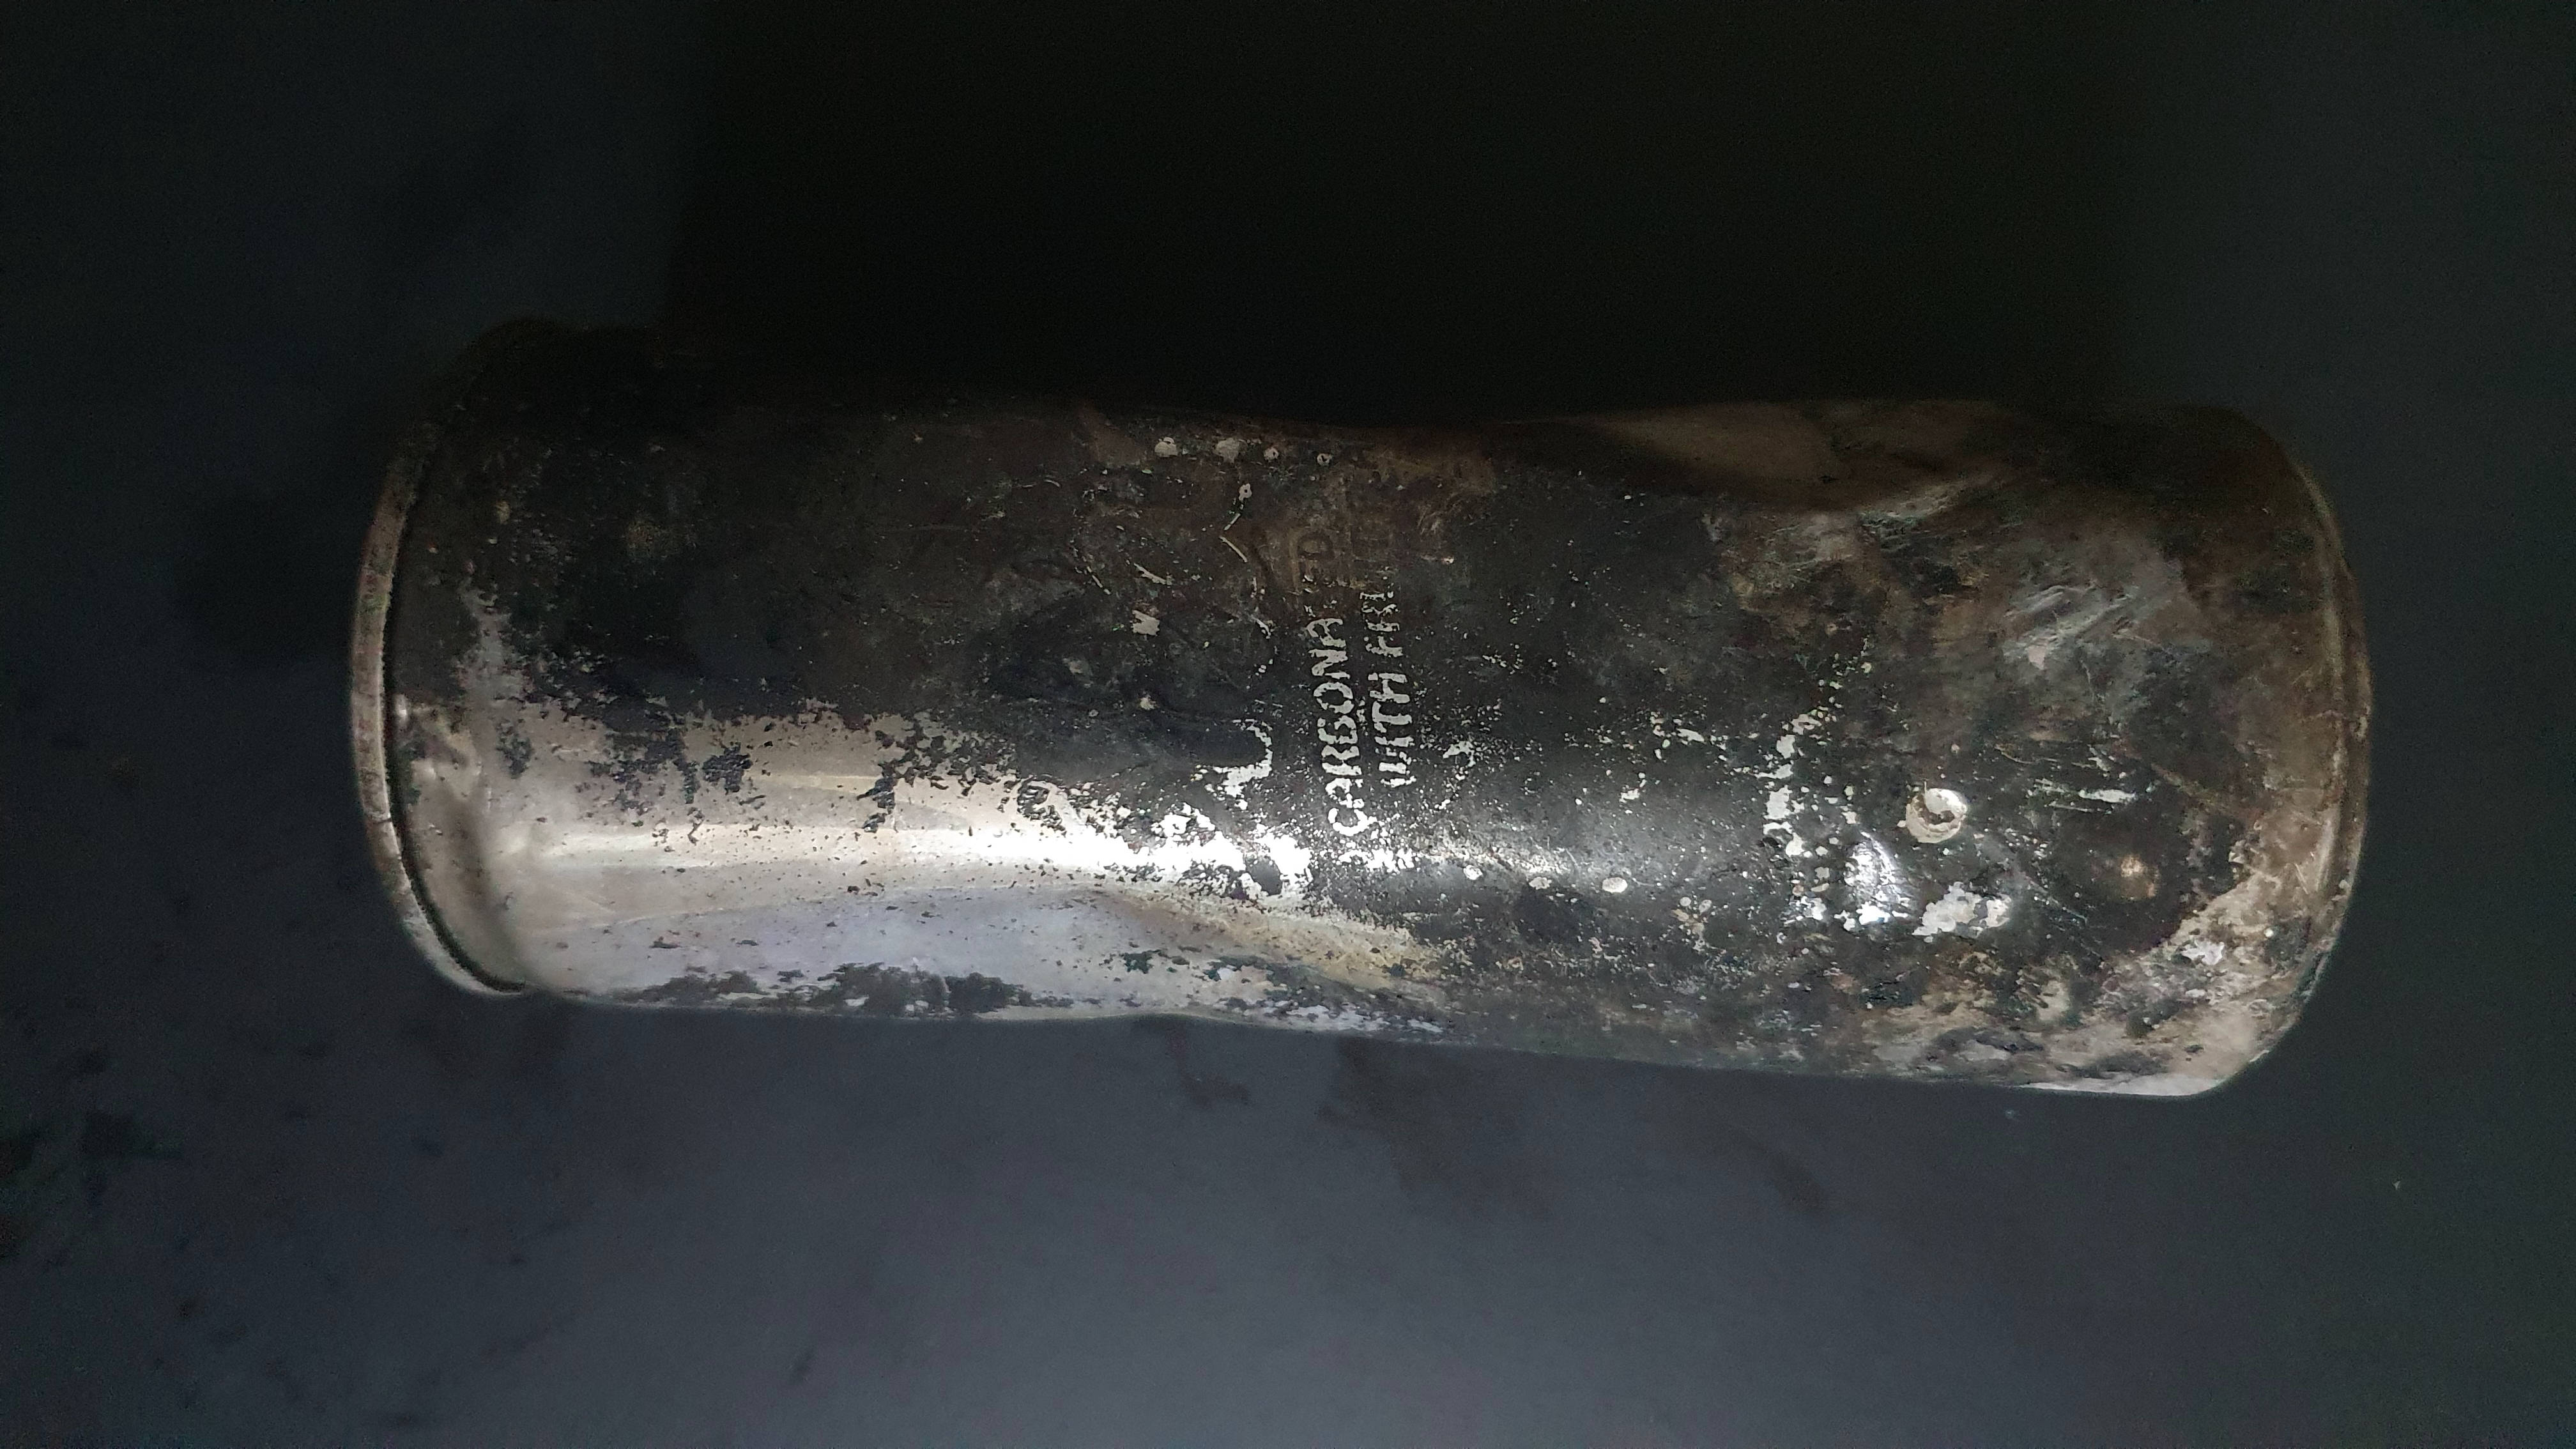metal: (297, 290, 2422, 1194)
